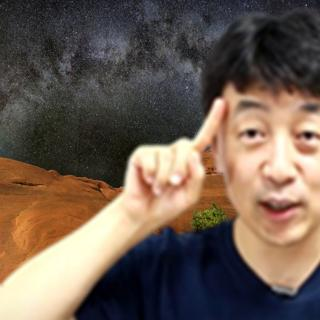IRRITATED: (118, 94, 227, 227)
